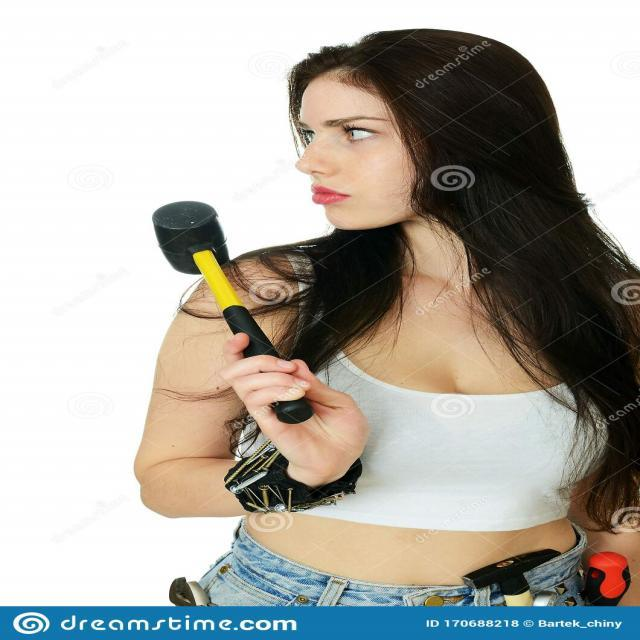hammer: (75, 188, 332, 446)
